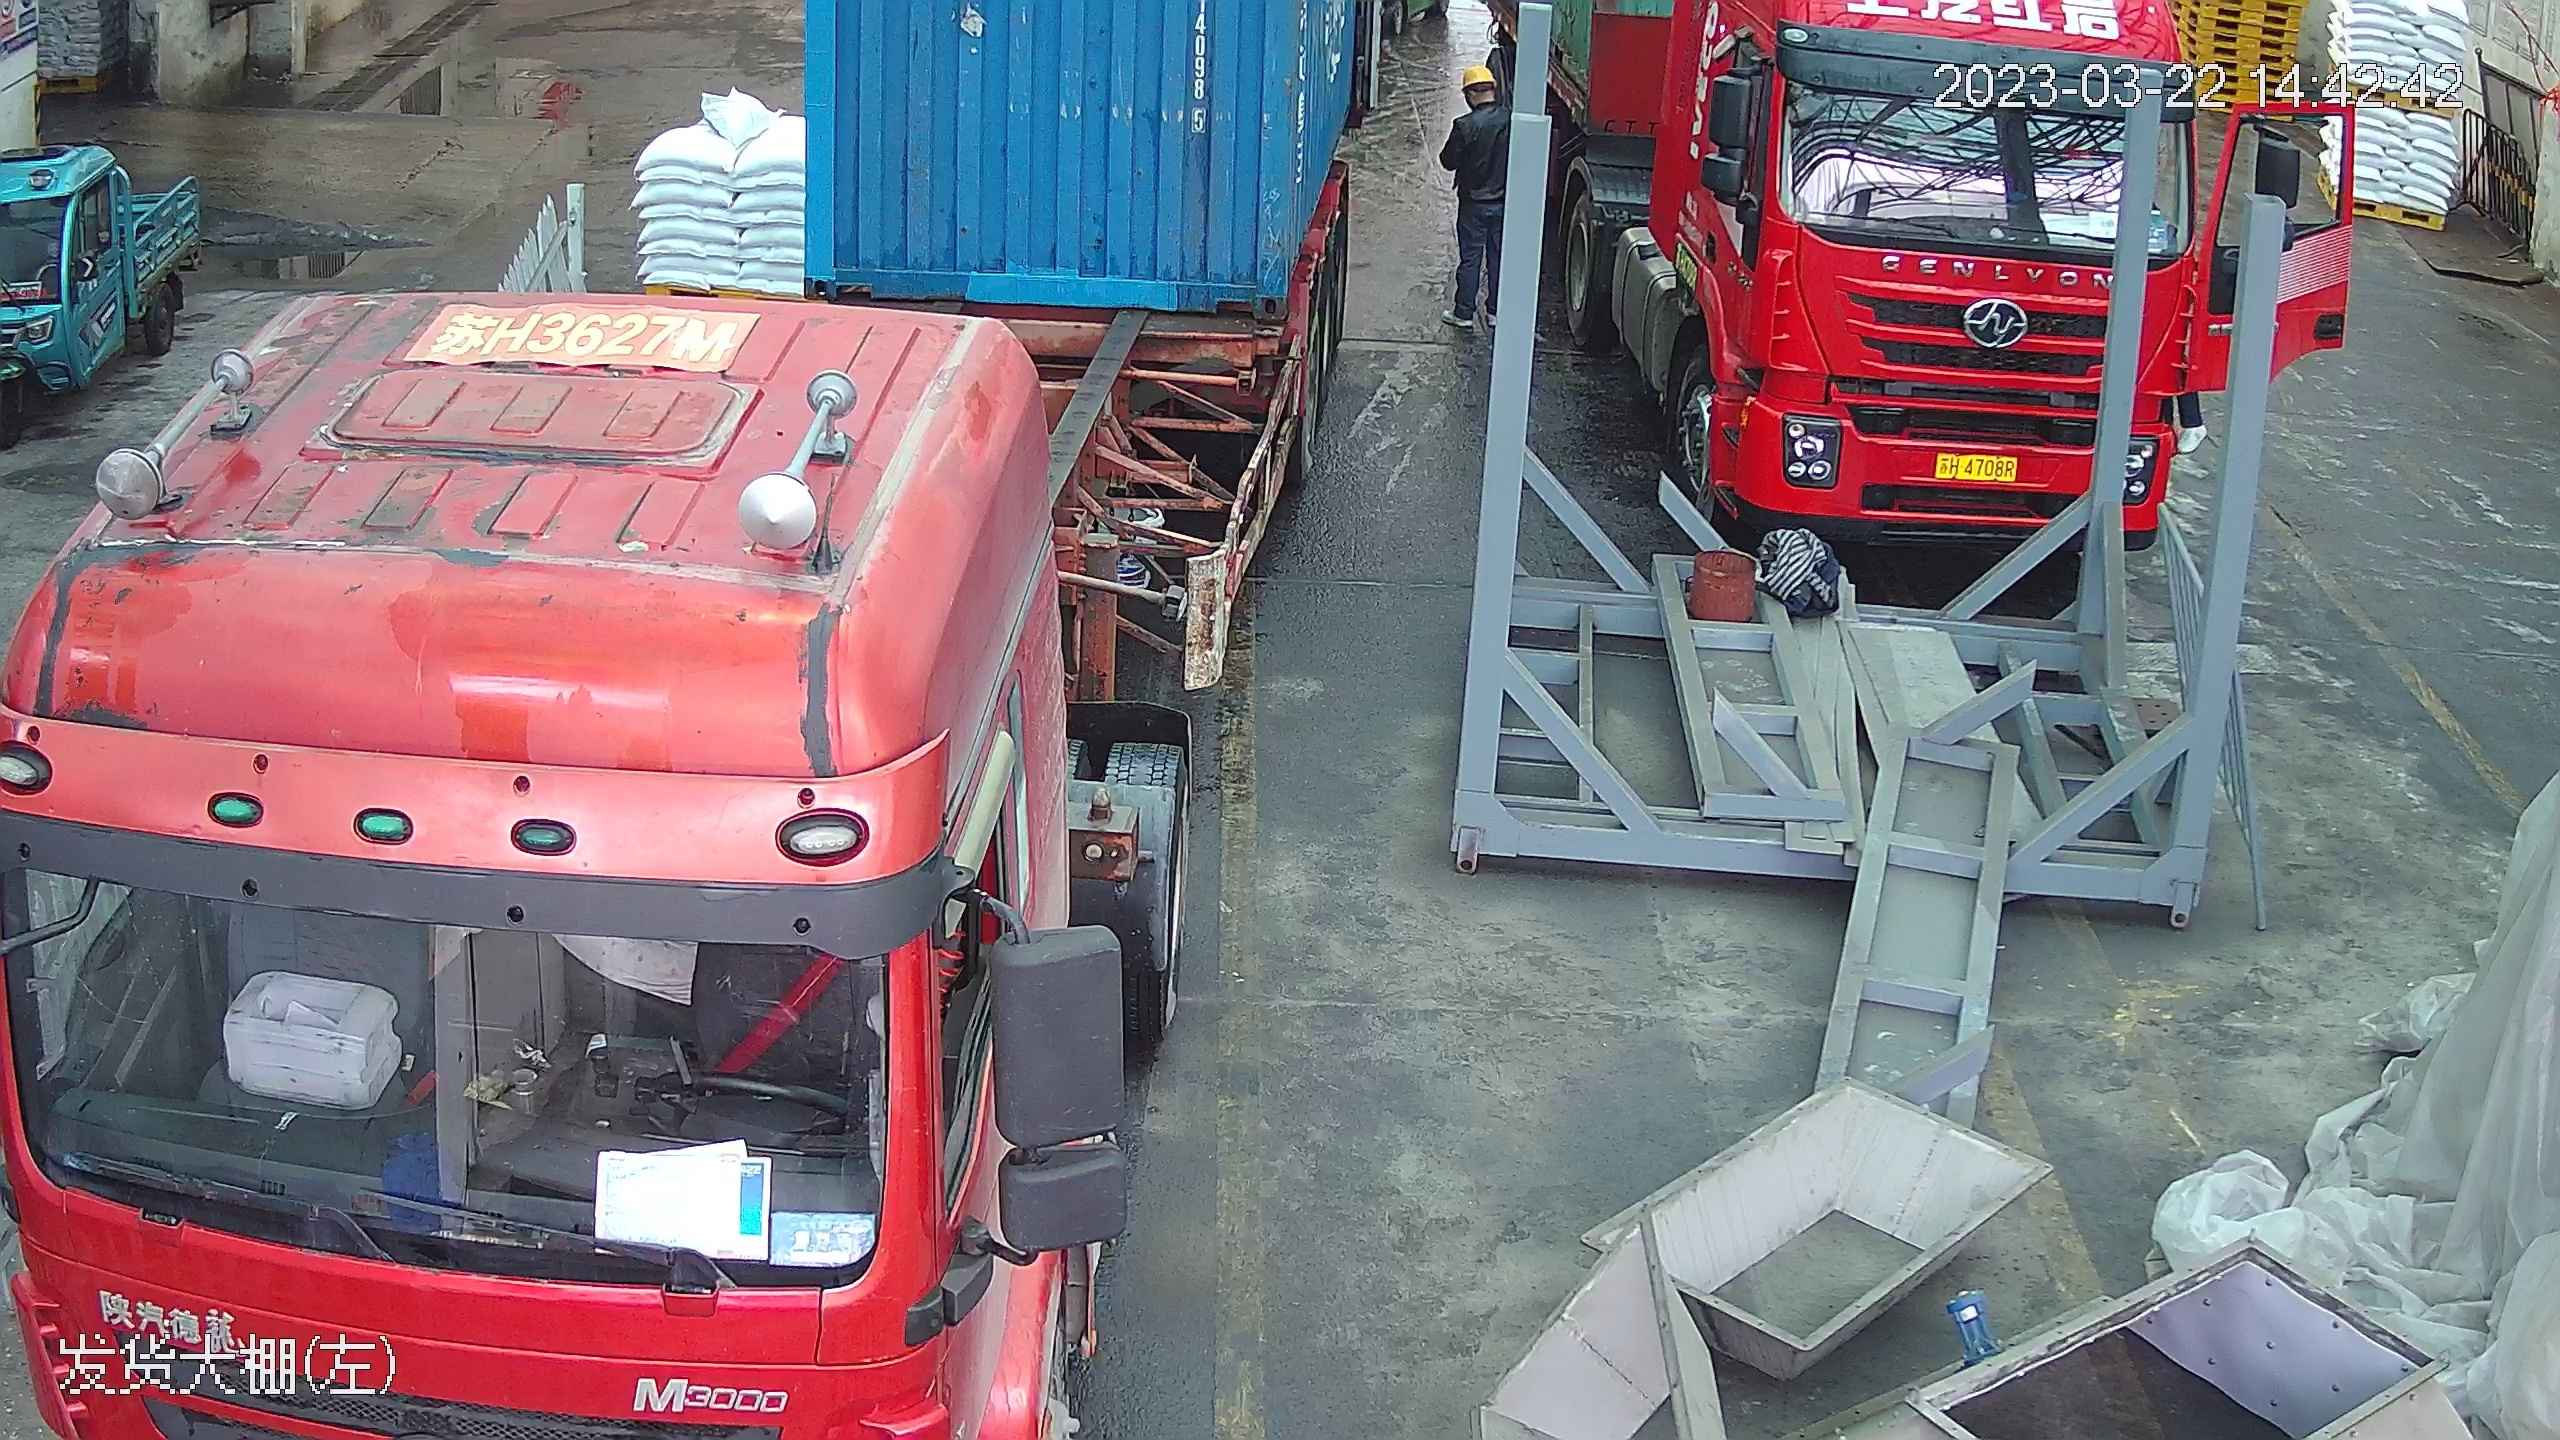head: (1449, 61, 1510, 139)
helmet: (1463, 63, 1496, 86)
people: (1439, 57, 1513, 327)
truck: (0, 37, 1287, 1440), (1581, 4, 2291, 555)
